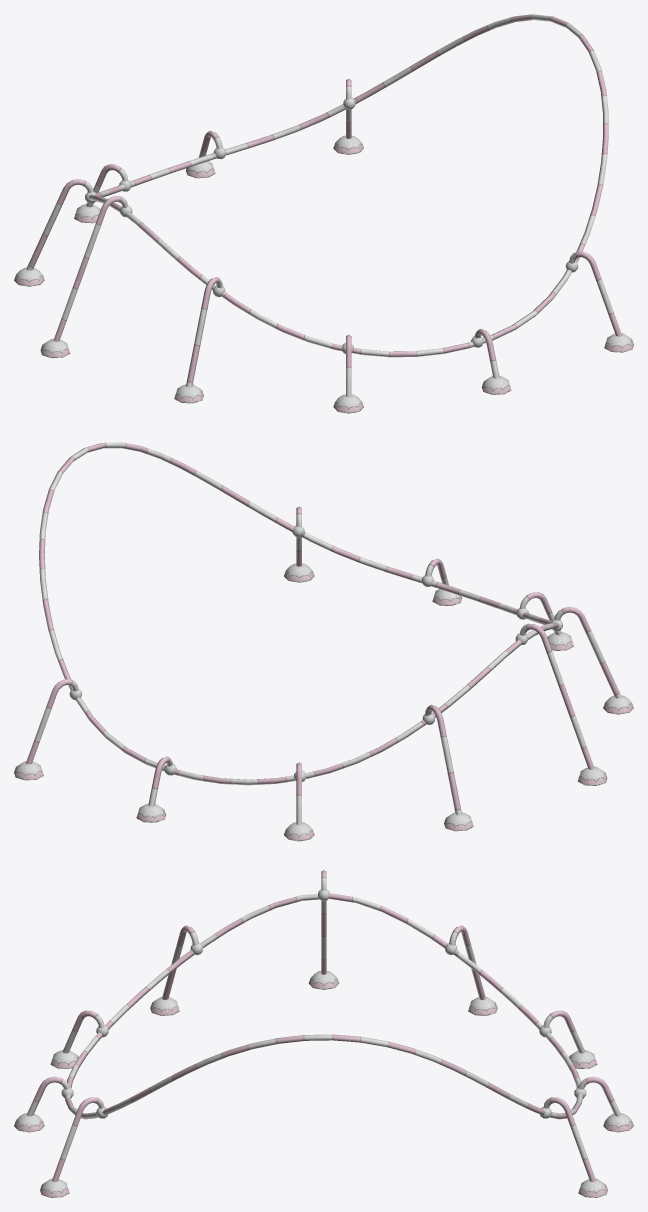
File: gMONORAIL.obj
The picture shows the model from 3 angles, top to bottom: view 1: azimuth 30°, elevation 25°; view 2: azimuth 150°, elevation 25°; view 3: azimuth 270°, elevation 25°; orthographic projection.
Visible parts, largest first — view 1: rail_0, pole4_1, pole3_1, pole5_1, pole_1, pole8_0, pole1_0, pole3_0, pole_0, pole4_0; view 2: rail_0, pole4_1, pole5_1, pole3_1, pole8_1, pole_0, pole7_0, pole5_0; view 3: rail_0, pole_1, pole8_1, pole3_1, pole5_1, pole4_0, pole4_1, pole3_0, pole5_0, pole1_0, pole7_0, pole8_0 (+5 smaller).
Part boxes in pixels (x1=…): rail_0: x1=88, y1=14, x2=608, y2=357; pole4_1: x1=53, y1=196, x2=127, y2=341; pole3_1: x1=186, y1=277, x2=222, y2=387; pole5_1: x1=26, y1=179, x2=93, y2=270; pole_1: x1=569, y1=251, x2=621, y2=336; pole8_0: x1=333, y1=97, x2=363, y2=154; pole1_0: x1=471, y1=336, x2=511, y2=394; pole3_0: x1=174, y1=285, x2=225, y2=403; pole_0: x1=565, y1=261, x2=633, y2=352; pole4_0: x1=40, y1=205, x2=132, y2=358; rail_0: x1=39, y1=442, x2=559, y2=785; pole4_1: x1=520, y1=623, x2=594, y2=769; pole5_1: x1=425, y1=704, x2=461, y2=815; pole3_1: x1=554, y1=607, x2=621, y2=698; pole8_1: x1=26, y1=679, x2=78, y2=764; pole_0: x1=284, y1=525, x2=314, y2=582; pole7_0: x1=136, y1=764, x2=176, y2=822; pole5_0: x1=422, y1=713, x2=473, y2=831; rail_0: x1=65, y1=893, x2=582, y2=1119; pole_1: x1=52, y1=1097, x2=104, y2=1181; pole8_1: x1=543, y1=1097, x2=595, y2=1181; pole3_1: x1=162, y1=925, x2=198, y2=999; pole5_1: x1=449, y1=925, x2=485, y2=999; pole4_0: x1=308, y1=889, x2=339, y2=989; pole4_1: x1=321, y1=870, x2=326, y2=974; pole3_0: x1=150, y1=943, x2=202, y2=1015; pole5_0: x1=445, y1=943, x2=497, y2=1015; pole1_0: x1=14, y1=1087, x2=73, y2=1132; pole7_0: x1=574, y1=1087, x2=633, y2=1132; pole8_0: x1=539, y1=1107, x2=607, y2=1197.
Bounding box in the file's own units: 2861 × 1030 × 2902.
